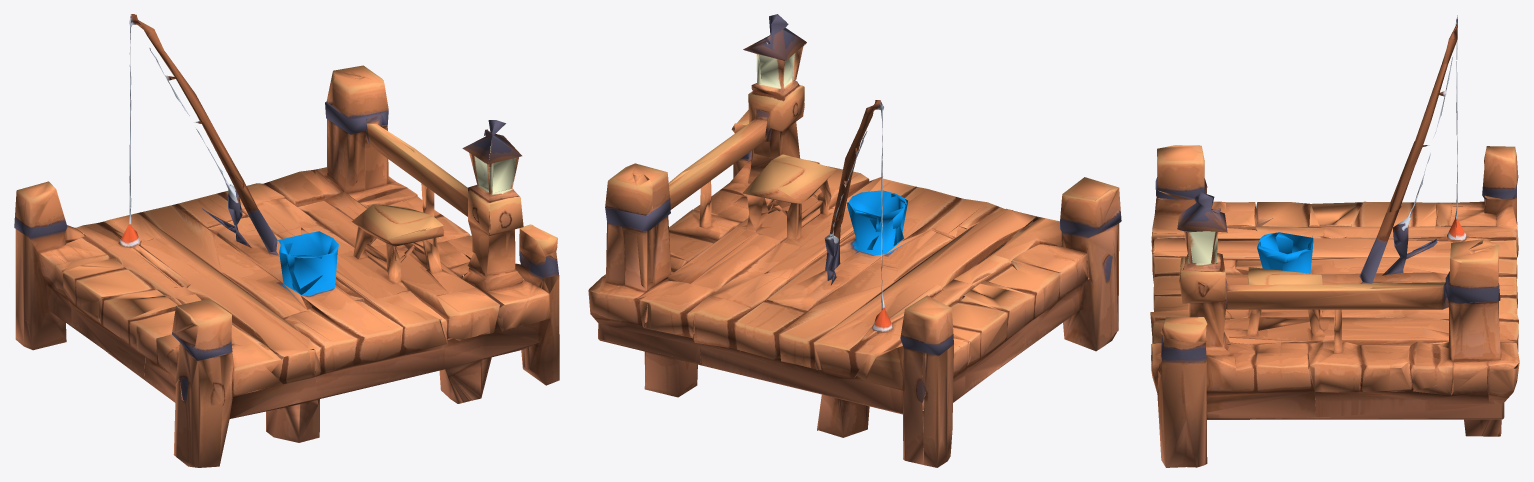
The model's file is M-13_06_fishing_deck.glb.
3 renders of one model, left to right at view 1: azimuth 30°, elevation 25°; view 2: azimuth 150°, elevation 25°; view 3: azimuth 270°, elevation 25°, orthographic.
Visible parts, largest first — view 1: fishing_deck; view 2: fishing_deck; view 3: fishing_deck.
Part boxes in pixels (x1=…): fishing_deck: x1=14, y1=14, x2=559, y2=467; fishing_deck: x1=588, y1=14, x2=1121, y2=467; fishing_deck: x1=1150, y1=15, x2=1519, y2=467.
Size of the model in its own units: 5.03 by 4.21 by 4.4.
Materials: 1 (1 with a texture image).
